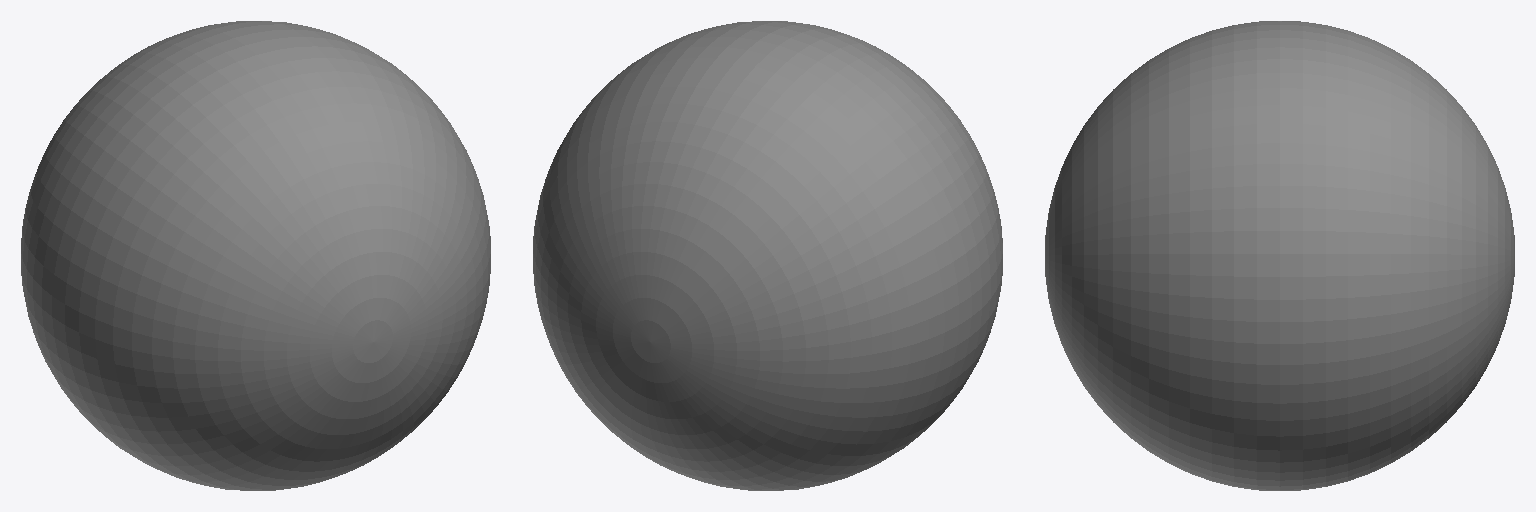
Rendered from moon.obj.
The picture shows the model from 3 angles: view 1: azimuth 30°, elevation 25°; view 2: azimuth 150°, elevation 25°; view 3: azimuth 270°, elevation 25°; orthographic projection.
Visible parts, largest first — view 1: Sphere001; view 2: Sphere001; view 3: Sphere001.
Part boxes in pixels (x1,y1,x2,y2): Sphere001: (21, 21, 490, 490); Sphere001: (533, 21, 1002, 490); Sphere001: (1045, 21, 1514, 490).
Bounding box in the file's own units: 195 × 195 × 196.